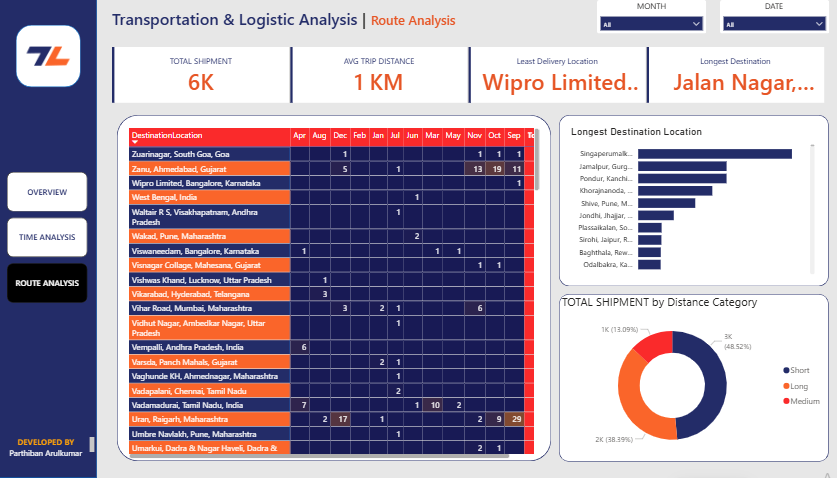

Layout of this report page (visuals, bound fields, positions):
{"tool":"powerbi","page":{"name":"ROUTE ANALYSIS","canvas":[1400,800],"ordinal":2},"visuals":[{"type":"shape","box":[1201,3,182,56],"z":0},{"type":"shape","box":[932.7,195.5,449.7,285.5],"z":1000},{"type":"shape","box":[197.5,195.5,723.5,576.8],"z":2000},{"type":"shape","box":[997,3,182,56],"z":3000},{"type":"textbox","box":[183.8,11.7,588.5,46.9],"z":4000},{"type":"shape","box":[0,0,163.3,800],"z":5000},{"type":"textbox","box":[1032,0,112,35],"z":6000},{"type":"slicer","fields":{"Values":["Dim_date.Year"]},"box":[997,25,182,34],"z":7000},{"type":"slicer","fields":{"Values":["Dim_date.BookingID_Date"]},"box":[1201,25,182,34],"z":8000},{"type":"textbox","box":[1242,0,100,28],"z":9000},{"type":"pivotTable","fields":{"Columns":["Primary data.MONTH NAME"],"Rows":["Primary data.DestinationLocation"],"Values":["Primary data.TOTAL SHIPMENT"]},"box":[211.2,211.2,694.1,561.2],"z":10000},{"type":"cardVisual","fields":{"Data":["Primary data.TOTAL SHIPMENT","Primary data.AVG TRIP DISTANCE","Primary data.Least Delivery Location","Primary data.Longest Destination"]},"box":[183.8,76.3,1198.6,103.6],"z":11000},{"type":"shape","box":[932.7,492.7,449.7,279.6],"z":12000},{"type":"barChart","title":"Longest Destination Location","fields":{"Category":["Primary data.Destination_Location"],"Y":["Sum(Primary data.TRANSPORTATION_DISTANCE_IN_KM)"]},"box":[948.3,211.2,416.5,254.2],"z":13000},{"type":"donutChart","fields":{"Category":["Primary data.Distance Category"],"Y":["Primary data.TOTAL SHIPMENT"]},"box":[932.7,492.7,449.7,279.6],"z":14000},{"type":"pageNavigator","box":[14,290,134,218],"z":15000},{"type":"group","id":"g1","title":"Group 1","box":[28.9,44.4,106.7,104.4],"z":15001},{"type":"textbox","box":[0,726,164,46],"z":15002},{"type":"shape","box":[28.9,44.4,107.5,103.6],"z":19000,"group":"g1"},{"type":"image","box":[37.8,53.3,90,87.8],"z":20000,"group":"g1"}]}

Visuals, with their boxes on the page's 1400x800 design canvas (x1, y1, x2, y2). These are canvas units, not pixel positions in the 837x478 screenshot, which may show the page scaled, cropped or inside an application window:
shape: (1201,3,1383,59)
shape: (933,196,1382,481)
shape: (198,196,921,772)
shape: (997,3,1179,59)
textbox: (184,12,772,59)
shape: (0,0,163,800)
textbox: (1032,0,1144,35)
slicer - Dim_date.Year: (997,25,1179,59)
slicer - Dim_date.BookingID_Date: (1201,25,1383,59)
textbox: (1242,0,1342,28)
pivotTable - Primary data.MONTH NAME x Primary data.DestinationLocation: (211,211,905,772)
cardVisual - Primary data.TOTAL SHIPMENT x Primary data.AVG TRIP DISTANCE: (184,76,1382,180)
shape: (933,493,1382,772)
"Longest Destination Location" barChart: (948,211,1365,465)
donutChart - Primary data.Distance Category x Primary data.TOTAL SHIPMENT: (933,493,1382,772)
pageNavigator: (14,290,148,508)
"Group 1" group: (29,44,136,149)
textbox: (0,726,164,772)
shape: (29,44,136,148)
image: (38,53,128,141)
